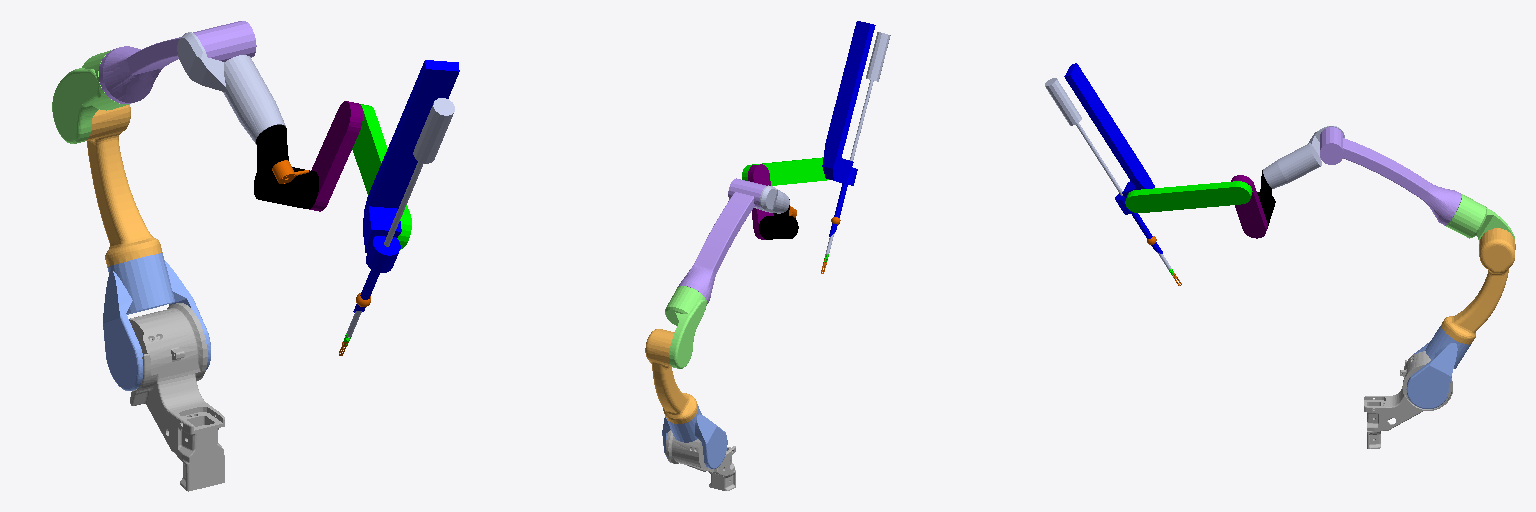
robot.urdf — V1_Arm_URDF:
<robot
  name="V1_Arm_URDF">

  <link
    name="V1_arm1_base_link">
    <inertial>
      <origin
        xyz="-0.00055124  -0.02427719 -0.02322142"
        rpy="0 0 0" />
      <mass
        value="1.9" />
      <inertia
        ixx="0.00758967"
        ixy="0.00001624"
        ixz="0.00002591"
        iyy="0.00439493"
        iyz="0.00281287"
        izz="0.00472741" />
    </inertial>
    <visual>
      <origin
        xyz="0 0 0"
        rpy="0 0 0" />
      <geometry>
        <mesh
          filename="package://V1_Arm_URDF/meshes/V1_arm1_base_link.STL" />
      </geometry>
      <material
        name="">
        <color
          rgba="0.75294 0.75294 0.75294 1" />
      </material>
    </visual>
    <collision>
      <origin
        xyz="0 0 0"
        rpy="0 0 0" />
      <geometry>
        <mesh
          filename="package://V1_Arm_URDF/meshes/V1_arm1_base_link.STL" />
      </geometry>
    </collision>
  </link>

<link
    name="V1_arm1_shoulder_pitch_link">
    <inertial>
      <origin
        xyz="0.06218887 0 0.00000160"
        rpy="0 0 0" />
      <mass
        value="1.195" />
      <inertia
        ixx="0.00183098"
        ixy="0"
        ixz="0.00000007"
        iyy="0.00350504"
        iyz="0"
        izz="0.00256228" />
    </inertial>
    <visual>
      <origin
        xyz="0 0 0"
        rpy="0 0 0" />
      <geometry>
        <mesh
          filename="package://V1_Arm_URDF/meshes/V1_arm1_shoulder_pitch_link.STL" />
      </geometry>
      <material
        name="">
        <color
          rgba="0.6 0.72549 1 1" />
      </material>
    </visual>
    <collision>
      <origin
        xyz="0 0 0"
        rpy="0 0 0" />
      <geometry>
        <mesh
          filename="package://V1_Arm_URDF/meshes/V1_arm1_shoulder_pitch_link.STL" />
      </geometry>
    </collision>
  </link>

<joint
    name="V1_arm1_shoulder_pitch_joint"
    type="revolute">
    <origin
      xyz="0 0 0"
      rpy="1.5708 -1.0472 1.5708" />
    <parent
      link="V1_arm1_base_link" />
    <child
      link="V1_arm1_shoulder_pitch_link" />
    <axis
      xyz="0 0 1" />
    <limit effort="30" lower="-2.3607" upper=".7809" velocity="1.0"/>
  </joint>

<link
    name="V1_arm1_shoulder_roll_link">
    <inertial>
      <origin
        xyz="0.00448948 -0.00254241 -0.07314239"
        rpy="0 0 0" />
      <mass
        value="1.183" />
      <inertia
        ixx="0.00753429"
        ixy="-0.00007070"
        ixz="0.00096970"
        iyy="0.00779969"
        iyz="-0.00032930"
        izz="0.00088178" />
    </inertial>
    <visual>
      <origin
        xyz="0 0 0"
        rpy="0 0 0" />
      <geometry>
        <mesh
          filename="package://V1_Arm_URDF/meshes/V1_arm1_shoulder_roll_link.STL" />
      </geometry>
      <material
        name="">
        <color
          rgba="1 0.75686 0.38431 1" />
      </material>
    </visual>
    <collision>
      <origin
        xyz="0 0 0"
        rpy="0 0 0" />
      <geometry>
        <mesh
          filename="package://V1_Arm_URDF/meshes/V1_arm1_shoulder_roll_link.STL" />
      </geometry>
    </collision>
  </link>

<joint
    name="V1_arm1_shoulder_roll_joint"
    type="revolute">
    <origin
      xyz="0.32385 0 0"
      rpy="1.5708 0 1.5708" />
    <parent
      link="V1_arm1_shoulder_pitch_link" />
    <child
      link="V1_arm1_shoulder_roll_link" />
    <axis
      xyz="0 0 1" />
    <limit effort="30" lower="-1.5708" upper="1.5708" velocity="1.0"/>
  </joint>

<link
    name="V1_arm1_elbow_link">
    <inertial>
      <origin
        xyz="0.02404932 0.06734925 -0.02975223"
        rpy="0 0 0" />
      <mass
        value="1.281" />
      <inertia
        ixx="0.00269566"
        ixy="0.00050162"
        ixz="0.00013679"
        iyy="0.00112075"
        iyz="0.00055297"
        izz="0.00279944" />
    </inertial>
    <visual>
      <origin
        xyz="0 0 0"
        rpy="0 0 0" />
      <geometry>
        <mesh
          filename="package://V1_Arm_URDF/meshes/V1_arm1_elbow_link.STL" />
      </geometry>
      <material
        name="">
        <color
          rgba="0.61569 1 0.55294 1" />
      </material>
    </visual>
    <collision>
      <origin
        xyz="0 0 0"
        rpy="0 0 0" />
      <geometry>
        <mesh
          filename="package://V1_Arm_URDF/meshes/V1_arm1_elbow_link.STL" />
      </geometry>
    </collision>
  </link>

<joint
    name="V1_arm1_elbow_joint"
    type="revolute">
    <origin
      xyz="0.02 0 0"
      rpy="-1.5708 -1.5708 0" />
    <parent
      link="V1_arm1_shoulder_roll_link" />
    <child
      link="V1_arm1_elbow_link" />
    <axis
      xyz="0 0 1" />
    <limit effort="30" lower="-1.5708" upper="1.5708" velocity="1.0"/>
  </joint>

<link
    name="V1_arm1_forearm_link">
    <inertial>
      <origin
        xyz="0.00000202 0.00575916 0.27761774"
        rpy="0 0 0" />
      <mass
        value="0.942" />
      <inertia
        ixx="0.01148491"
        ixy="0"
        ixz="-0.00000012"
        iyy="0.01162392"
        iyz="-0.00000700"
        izz="0.00047604" />
    </inertial>
    <visual>
      <origin
        xyz="0 0 0"
        rpy="0 0 0" />
      <geometry>
        <mesh
          filename="package://V1_Arm_URDF/meshes/V1_arm1_forearm_link.STL" />
      </geometry>
      <material
        name="">
        <color
          rgba="0.76471 0.64706 1 1" />
      </material>
    </visual>
    <collision>
      <origin
        xyz="0 0 0"
        rpy="0 0 0" />
      <geometry>
        <mesh
          filename="package://V1_Arm_URDF/meshes/V1_arm1_forearm_link.STL" />
      </geometry>
    </collision>
  </link>

<joint
    name="V1_arm1_forearm_joint"
    type="revolute">
    <origin
      xyz=".03000 0 -0.02110"
      rpy="-1.5708 -1.5708 0" />
    <parent
      link="V1_arm1_elbow_link" />
    <child
      link="V1_arm1_forearm_link" />
    <axis
      xyz="0 0 1" />
    <limit effort="30" lower="-1.5708" upper="1.5708" velocity="1.0"/>
  </joint>

<link
    name="V1_arm1_spherical_base_link">
    <inertial>
      <origin
        xyz="0.07922596 0 -0.00707007"
        rpy="0 0 0" />
      <mass
        value="0.600" />
      <inertia
        ixx="0.00032575"
        ixy="0"
        ixz="0.00025917"
        iyy="0.00123265"
        iyz="0"
        izz="0.00110614" />
    </inertial>
    <visual>
      <origin
        xyz="0 0 0"
        rpy="0 0 0" />
      <geometry>
        <mesh
          filename="package://V1_Arm_URDF/meshes/V1_arm1_spherical_base_link.STL" />
      </geometry>
      <material
        name="">
        <color
          rgba="0.79216 0.81961 0.93333 1" />
      </material>
    </visual>
    <collision>
      <origin
        xyz="0 0 0"
        rpy="0 0 0" />
      <geometry>
        <mesh
          filename="package://V1_Arm_URDF/meshes/V1_arm1_spherical_base_link.STL" />
      </geometry>
    </collision>
  </link>

<joint
    name="V1_arm1_spherical_base_joint"
    type="revolute">
    <origin
      xyz="0 0 0.415"
      rpy="-1.5708 -0.5236 -1.5708" />
    <parent
      link="V1_arm1_forearm_link" />
    <child
      link="V1_arm1_spherical_base_link" />
    <axis
      xyz="0 0 1" />
    <limit effort="30" lower="-1.4820" upper="+2.0087" velocity="1.0"/>
  </joint>

<link
    name="V1_arm1_spherical_roll_link">
    <inertial>
      <origin
        xyz="0.04054375 0.01898139 0.00108566"
        rpy="0 0 0" />
      <mass
        value="0.6" />
      <inertia
        ixx="0.46781819"
        ixy="0.06782344"
        ixz="0.12992694"
        iyy="0.44469162"
        iyz="0.11374943"
        izz="0.45643901" />
    </inertial>
    <visual>
      <origin
        xyz="0 0 0"
        rpy="0 0 0" />
      <geometry>
        <mesh
          filename="package://V1_Arm_URDF/meshes/V1_arm1_spherical_roll_link.STL" />
      </geometry>
      <material
        name="">
        <color
          rgba="0 0 0 1" />
      </material>
    </visual>
    <collision>
      <origin
        xyz="0 0 0"
        rpy="0 0 0" />
      <geometry>
        <mesh
          filename="package://V1_Arm_URDF/meshes/V1_arm1_spherical_roll_link.STL" />
      </geometry>
    </collision>
  </link>

<joint
    name="V1_arm1_spherical_roll_joint"
    type="revolute">
    <origin
      xyz="0.19322 0 0"
      rpy="1.5708 0.18773 1.5708" />
    <parent
      link="V1_arm1_spherical_base_link" />
    <child
      link="V1_arm1_spherical_roll_link" />
    <axis
      xyz="0 0 1" />
    <limit effort="30" lower="-4.71239" upper="4.71239" velocity="1.0"/>
  </joint>

<link
    name="V1_arm1_pitch_a_link">
    <inertial>
      <origin
        xyz="0.05719705 -0.00004469 0.06919435"
        rpy="0 0 0" />
      <mass
        value="0.243" />
      <inertia
        ixx="0.00005379"
        ixy="0.00000004"
        ixz="0"
        iyy="0.00049133"
        iyz="-0.00000007"
        izz="0.00053231" />
    </inertial>
    <visual>
      <origin
        xyz="0 0 0"
        rpy="0 0 0" />
      <geometry>
        <mesh
          filename="package://V1_Arm_URDF/meshes/V1_arm1_pitch_a_link.STL" />
      </geometry>
      <material
        name="">
        <color
          rgba="0.5 0 0.5 1" />
      </material>
    </visual>
    <collision>
      <origin
        xyz="0 0 0"
        rpy="0 0 0" />
      <geometry>
        <mesh
          filename="package://V1_Arm_URDF/meshes/V1_arm1_pitch_a_link.STL" />
      </geometry>
    </collision>
  </link>

<joint
    name="V1_arm1_pitch_a_joint"
    type="revolute">
    <origin
      xyz="0.04753 0 0"
      rpy="1.20376785038861 0.254936892774236 3.04493720059253" />
    <parent
      link="V1_arm1_spherical_roll_link" />
    <child
      link="V1_arm1_pitch_a_link" />
    <axis
      xyz="0 0 1" />
    <limit effort="30" lower="-1.4198" upper="1.0236" velocity="1.0"/>
  </joint>

  <link
    name="V1_arm1_pitch_b_link">
    <inertial>
      <origin
        xyz="0.11423799 -0.00002767 0.0230957192"
        rpy="0 0 0" />
      <mass
        value="0.487" />
      <inertia
        ixx="0.00011057"
        ixy="0.00000046"
        ixz="0.00000147"
        iyy="0.00293978"
        iyz="0"
        izz="0.00302469" />
    </inertial>
    <visual>
      <origin
        xyz="0 0 0"
        rpy="0 0 0" />
      <geometry>
        <mesh
          filename="package://V1_Arm_URDF/meshes/V1_arm1_pitch_b_link.STL" />
      </geometry>
      <material
        name="">
        <color
          rgba="0 1 0 1" />
      </material>
    </visual>
    <collision>
      <origin
        xyz="0 0 0"
        rpy="0 0 0" />
      <geometry>
        <mesh
          filename="package://V1_Arm_URDF/meshes/V1_arm1_pitch_b_link.STL" />
      </geometry>
    </collision>
  </link>

 <joint
    name="V1_arm1_pitch_b_joint"
    type="revolute">
    <origin
      xyz="0.1143 0 0.06419"
      rpy="0 0 1.633628" />
    <parent
      link="V1_arm1_pitch_a_link" />
    <child
      link="V1_arm1_pitch_b_link" />
    <axis
      xyz="0 0 1" />
    <limit effort="30" lower="-1.0236" upper="1.4198" velocity="1.0"/>
  </joint>

  <link
    name="V1_arm1_pitch_c_link">
    <inertial>
      <origin
        xyz="-0.00636062 -0.09760294 -0.01788714"
        rpy="0 0 0" />
      <mass
        value="0.500" />
      <inertia
        ixx="0.00648952"
        ixy="0.00082224"
        ixz="0.00014234"
        iyy="0.00050852"
        iyz="0.00104333"
        izz="0.00650370" />
    </inertial>
    <visual>
      <origin
        xyz="0 0 0"
        rpy="0 0 0" />
      <geometry>
        <mesh
          filename="package://V1_Arm_URDF/meshes/V1_arm1_pitch_c_link.STL" />
      </geometry>
      <material
        name="">
        <color
          rgba="0 0 1 1" />
      </material>
    </visual>
    <collision>
      <origin
        xyz="0 0 0"
        rpy="0 0 0" />
      <geometry>
        <mesh
          filename="package://V1_Arm_URDF/meshes/V1_arm1_pitch_c_link.STL" />
      </geometry>
    </collision>
  </link>

  <joint
    name="V1_arm1_pitch_c_joint"
    type="revolute">
    <origin
      xyz="0.2286 0 0"
      rpy="0 0 0.275762" />
    <parent
      link="V1_arm1_pitch_b_link" />
    <child
      link="V1_arm1_pitch_c_link" />
    <axis
      xyz="0 0 1" />
   <limit effort="30" lower="-1.4198" upper="1.0236" velocity="1.0"/>
  </joint>

  <link
    name="V1_arm1_tool_translate_link">
    <inertial>
      <origin
        xyz="-0.01953409 0.00743989 0.26133068"
        rpy="0 0 0" />
      <mass
        value="0.800" />
      <inertia
        ixx="0.00164842"
        ixy="-0.00006503"
        ixz="0.00010273"
        iyy="0.00179004"
        iyz="-0.00002099"
        izz="0.00059810" />
    </inertial>
    <visual>
      <origin
        xyz="0 0 0"
        rpy="0 0 0" />
      <geometry>
        <mesh
          filename="package://V1_Arm_URDF/meshes/V1_arm1_tool_translate_link.STL" />
      </geometry>
      <material
        name="">
        <color
          rgba="1 0.50196 0.50196 1" />
      </material>
    </visual>
    <collision>
      <origin
        xyz="0 0 0"
        rpy="0 0 0" />
      <geometry>
        <mesh
          filename="package://V1_Arm_URDF/meshes/V1_arm1_tool_translate_link.STL" />
      </geometry>
    </collision>
  </link>

 <joint
    name="V1_arm1_tool_translate_joint"
    type="prismatic">
    <origin
      xyz="0.0379 0 0"
      rpy="1.7453 0 0" />
    <parent
      link="V1_arm1_pitch_c_link" />
    <child
      link="V1_arm1_tool_translate_link" />
    <axis
      xyz="0 0 1" />
    <limit effort="30" lower="-.167" upper=".092" velocity="1.0"/>
  </joint>

 <link
    name="V1_arm1_tool_rotate_link">
    <inertial>
      <origin
        xyz="0 0 0.38715"
        rpy="0 0 0" />
      <mass
        value="0.05" />
      <inertia
        ixx="0.00069673"
        ixy="0"
        ixz="0"
        iyy="0.00069673"
        iyz="0"
        izz="0.00000444" />
    </inertial>
    <visual>
      <origin
        xyz="0 0 0"
        rpy="0 0 0" />
      <geometry>
        <mesh
          filename="package://V1_Arm_URDF/meshes/V1_arm1_tool_rotate_link.STL" />
      </geometry>
      <material
        name="">
        <color
          rgba="0.79216 0.81961 0.93333 1" />
      </material>
    </visual>
    <collision>
      <origin
        xyz="0 0 0"
        rpy="0 0 0" />
      <geometry>
        <mesh
          filename="package://V1_Arm_URDF/meshes/V1_arm1_tool_rotate_link.STL" />
      </geometry>
    </collision>
  </link>

<joint
    name="V1_arm1_tool_rotate_joint"
    type="revolute">
    <origin
      xyz="0 0 -0.1891"
      rpy="0 0 0" />
    <parent
      link="V1_arm1_tool_translate_link" />
    <child
      link="V1_arm1_tool_rotate_link" />
    <axis
      xyz="0 0 1" />
    <limit effort="30" lower="-7.85398" upper="7.85398" velocity="1.0"/>
  </joint>

 <link
    name="V1_arm1_wrist_link">
    <inertial>
      <origin
        xyz="0.00506523 0 0"
        rpy="0 0 0" />
      <mass
        value="0.005" />
      <inertia
        ixx="0.00000004"
        ixy="0"
        ixz="0"
        iyy="0.00000015"
        iyz="0"
        izz="0.00000014" />
    </inertial>
    <visual>
      <origin
        xyz="0 0 0"
        rpy="0 0 0" />
      <geometry>
        <mesh
          filename="package://V1_Arm_URDF/meshes/V1_arm1_wrist_link.STL" />
      </geometry>
      <material
        name="">
        <color
          rgba="0 1 0 1" />
      </material>
    </visual>
    <collision>
      <origin
        xyz="0 0 0"
        rpy="0 0 0" />
      <geometry>
        <mesh
          filename="package://V1_Arm_URDF/meshes/V1_arm1_wrist_link.STL" />
      </geometry>
    </collision>
  </link>

<joint
    name="V1_arm1_wrist_joint"
    type="revolute">
    <origin
      xyz="0 0 0"
      rpy="1.5708 1.5708 0" />
    <parent
      link="V1_arm1_tool_rotate_link" />
    <child
      link="V1_arm1_wrist_link" />
    <axis
      xyz="0 0 1" />
    <limit effort="30" lower="-1.5708" upper="1.5708" velocity="1.0"/>
  </joint>

<link
    name="V1_arm1_distal_wrist_link">
</link>

<joint
    name="V1_arm1_distal_wrist_joint"
    type="revolute">
    <origin
      xyz="0.012333 0 0"
      rpy="-1.5708 0 0" />
    <parent
      link="V1_arm1_wrist_link" />
    <child
      link="V1_arm1_distal_wrist_link" />
    <axis
      xyz="0 0 1" />
    <limit effort="30" lower="-1.5708" upper="1.5708" velocity="1.0"/>
</joint>

<link
    name="V1_arm1_jaw_a_link">
    <inertial>
      <origin
        xyz="0.0073012 0.00043319 0.0015031"
        rpy="0 0 0" />
      <mass
        value="0.005" />
      <inertia
        ixx="0.00000003"
        ixy="0.00000002"
        ixz="-0.00000004"
        iyy="0.00000037"
        iyz="0"
        izz="0.00000036" />
    </inertial>
    <visual>
      <origin
        xyz="0 0 0"
        rpy="0 0 0" />
      <geometry>
        <mesh
          filename="package://V1_Arm_URDF/meshes/V1_arm1_jaw_a_link.STL" />
      </geometry>
      <material
        name="">
        <color
          rgba="0.9098 0.44314 0.031373 1" />
      </material>
    </visual>
    <collision>
      <origin
        xyz="0 0 0"
        rpy="0 0 0" />
      <geometry>
        <mesh
          filename="package://V1_Arm_URDF/meshes/V1_arm1_jaw_a_link.STL" />
      </geometry>
    </collision>
</link>

<joint
    name="V1_arm1_jaw_a_joint"
    type="revolute">
    <origin
      xyz="0 0 0"
      rpy="0 0 0" />
    <parent
      link="V1_arm1_distal_wrist_link" />
    <child
      link="V1_arm1_jaw_a_link" />
    <axis
      xyz="0 0 1" />
    <limit effort="30" lower="-1.5708" upper="1.5708" velocity="1.0"/>
  </joint>

<link
    name="V1_arm1_jaw_b_link">  
    <inertial>
      <origin
        xyz="0.0073012 0.00043319 0.0015031"
        rpy="0 0 0" />
      <mass
        value="0.005" />
      <inertia
        ixx="0.00000003"
        ixy="0.00000002"
        ixz="-0.00000004"
        iyy="0.00000037"
        iyz="0"
        izz="0.00000036" />
    </inertial>
    <visual>
      <origin
        xyz="0 0 0"
        rpy="0 0 0" />
      <geometry>
        <mesh
          filename="package://V1_Arm_URDF/meshes/V1_arm1_jaw_b_link.STL" />
      </geometry>
      <material
        name="">
        <color
          rgba="0.9098 0.44314 0.031373 1" />
      </material>
    </visual>
    <collision>
      <origin
        xyz="0 0 0"
        rpy="0 0 0" />
      <geometry>
        <mesh
          filename="package://V1_Arm_URDF/meshes/V1_arm1_jaw_b_link.STL" />
      </geometry>
    </collision>
  </link>

<joint
    name="V1_arm1_jaw_b_joint"
    type="revolute">
    <origin
      xyz="0 0 0"
      rpy="0 0 0" />
    <parent
      link="V1_arm1_distal_wrist_link" />
    <child
      link="V1_arm1_jaw_b_link" />
    <axis
      xyz="0 0 1" />
    <limit effort="30" lower="-1.5708" upper="1.5708" velocity="1.0"/>
  </joint>

/* ATI force-torque sensor: 

<link
    name="V1_arm1_ATI_sensor_link">  
    <inertial>
      <origin
        xyz="0.00082860 0 -0.01099715"
        rpy="0 0 0" />
      <mass
        value="0.063" />
      <inertia
        ixx="0.00000474"
        ixy="0.0000000"
        ixz="-0.00000032"
        iyy="0.00000597"
        iyz="-0.00000002"
        izz="0.00000595" />
    </inertial>
    <visual>
      <origin
        xyz="0 0 0"
        rpy="0 0 0" />
      <geometry>
        <mesh
          filename="package://V1_Arm_URDF/meshes/V1_arm1_ATI_sensor_link.STL" />
      </geometry>
      <material
        name="">
        <color
          rgba="0.9098 0.44314 0.031373 1" />
      </material>
    </visual>
    <collision>
      <origin
        xyz="0 0 0"
        rpy="0 0 0" />
      <geometry>
        <mesh
          filename="package://V1_Arm_URDF/meshes/V1_arm1_ATI_sensor_link.STL" />
      </geometry>
    </collision>
  </link>

<joint
    name="V1_arm1_ATI_sensor_joint"
    type="fixed">
    <origin
      xyz="0.012333 0 0"
      rpy="-3.037  0  1.7038" />
    <parent
      link="V1_arm1_spherical_roll_link" />
    <child
      link="V1_arm1_ATI_sensor_link" />
  </joint>

/* Remote Center of Motion (RCM) link

<link
    name="V1_arm1_RCM_link">  
    <inertial>
      <origin
        xyz="0 0 0"
        rpy="0 0 0" />
      <mass
        value="0.001" />
      <inertia
        ixx="0.000004"
        ixy="0.0000000"
        ixz="0.0000000"
        iyy="0.00000004"
        iyz="0.00000000"
        izz="0.00000004" />
    </inertial>
    <visual>
      <origin
        xyz="0 0 0"
        rpy="0 0 0" />
      <geometry>
        <mesh
          filename="package://V1_Arm_URDF/meshes/V1_arm1_RCM_link.STL" />
      </geometry>
      <material
        name="">
        <color
          rgba="0.9098 0.44314 0.031373 1" />
      </material>
    </visual>
    <collision>
      <origin
        xyz="0 0 0"
        rpy="0 0 0" />
      <geometry>
        <mesh
          filename="package://V1_Arm_URDF/meshes/V1_arm1_RCM_link.STL" />
      </geometry>
    </collision>
  </link>

<joint
    name="V1_arm1_RCM_joint"
    type="fixed">
    <origin
      xyz="0.037902 0.10784 0.019015"
      rpy="-1.3844 -0.3566 -0.065734" />
    <parent
      link="V1_arm1_pitch_c_link" />
    <child
      link="V1_arm1_RCM_link" />
  </joint>

</robot>

--- Facts derived from the render (not from the file) ---
The picture shows the robot from 3 angles, left to right: view 1: azimuth 30°, elevation 25°; view 2: azimuth 150°, elevation 25°; view 3: azimuth 270°, elevation 25°; orthographic projection.
Robot: V1_Arm_URDF — 18 links, 17 joints (14 revolute, 1 prismatic, 2 fixed); root link V1_arm1_base_link; default pose: all joints at 0.
Links seen in each view (by area): view 1: V1_arm1_base_link, V1_arm1_pitch_c_link, V1_arm1_shoulder_pitch_link, V1_arm1_shoulder_roll_link, V1_arm1_forearm_link, V1_arm1_spherical_base_link, V1_arm1_elbow_link, V1_arm1_spherical_roll_link, V1_arm1_pitch_a_link, V1_arm1_tool_rotate_link, V1_arm1_pitch_b_link; view 2: V1_arm1_pitch_c_link, V1_arm1_forearm_link, V1_arm1_shoulder_roll_link, V1_arm1_elbow_link, V1_arm1_shoulder_pitch_link, V1_arm1_base_link, V1_arm1_pitch_b_link, V1_arm1_tool_rotate_link, V1_arm1_spherical_roll_link, V1_arm1_pitch_a_link, V1_arm1_spherical_base_link; view 3: V1_arm1_forearm_link, V1_arm1_shoulder_roll_link, V1_arm1_pitch_c_link, V1_arm1_pitch_b_link, V1_arm1_shoulder_pitch_link, V1_arm1_base_link, V1_arm1_spherical_base_link, V1_arm1_elbow_link, V1_arm1_tool_rotate_link, V1_arm1_pitch_a_link.
Link boxes in pixels (x1,y1,x2,y2): V1_arm1_base_link: (129,303,224,491); V1_arm1_pitch_c_link: (353,60,459,312); V1_arm1_shoulder_pitch_link: (103,253,210,390); V1_arm1_shoulder_roll_link: (86,104,162,266); V1_arm1_forearm_link: (99,21,256,103); V1_arm1_spherical_base_link: (177,32,285,144); V1_arm1_elbow_link: (52,50,131,143); V1_arm1_spherical_roll_link: (254,125,318,208); V1_arm1_pitch_a_link: (309,101,362,211); V1_arm1_tool_rotate_link: (346,98,454,337); V1_arm1_pitch_b_link: (352,104,411,249); V1_arm1_pitch_c_link: (822,21,875,236); V1_arm1_forearm_link: (677,178,765,303); V1_arm1_shoulder_roll_link: (645,329,697,423); V1_arm1_elbow_link: (665,286,706,368); V1_arm1_shoulder_pitch_link: (662,406,727,468); V1_arm1_base_link: (666,430,735,490); V1_arm1_pitch_b_link: (742,157,828,185); V1_arm1_tool_rotate_link: (825,32,890,256); V1_arm1_spherical_roll_link: (759,199,798,239); V1_arm1_pitch_a_link: (748,164,773,239); V1_arm1_spherical_base_link: (754,185,789,213); V1_arm1_forearm_link: (1320,127,1461,225); V1_arm1_shoulder_roll_link: (1441,228,1515,344); V1_arm1_pitch_c_link: (1064,63,1162,253); V1_arm1_pitch_b_link: (1125,181,1252,212); V1_arm1_shoulder_pitch_link: (1406,324,1470,408); V1_arm1_base_link: (1364,351,1452,448); V1_arm1_spherical_base_link: (1263,126,1344,188); V1_arm1_elbow_link: (1445,194,1514,243); V1_arm1_tool_rotate_link: (1045,78,1171,269); V1_arm1_pitch_a_link: (1231,175,1267,238).
Size in the robot's own frame: 0.1731 by 0.9788 by 0.8646 metres.
16 mesh visuals loaded from 17 distinct referenced files (16 binary STL); not drawn: 1 (reference not matched to a file when rendering).
